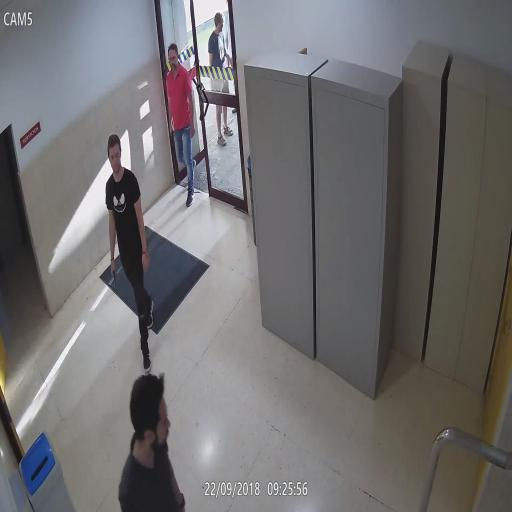Handgun: (109, 258, 118, 290), (168, 124, 174, 148)
